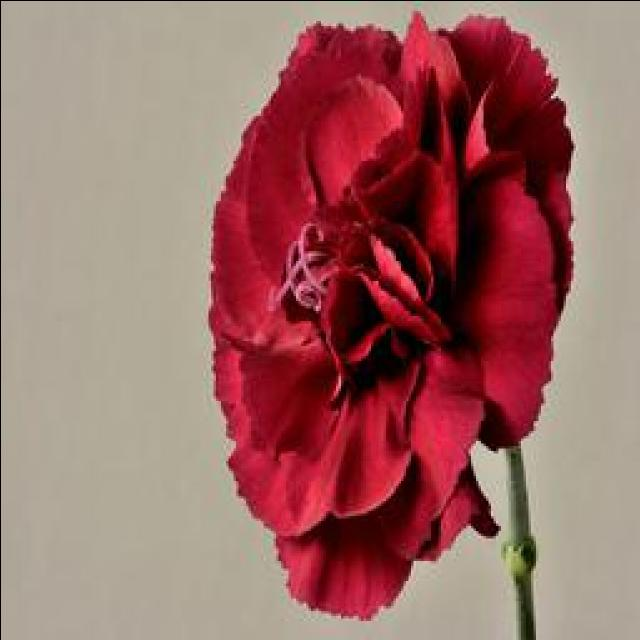carnation: (183, 0, 594, 612)
